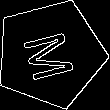M_E: (19, 25, 82, 83)
